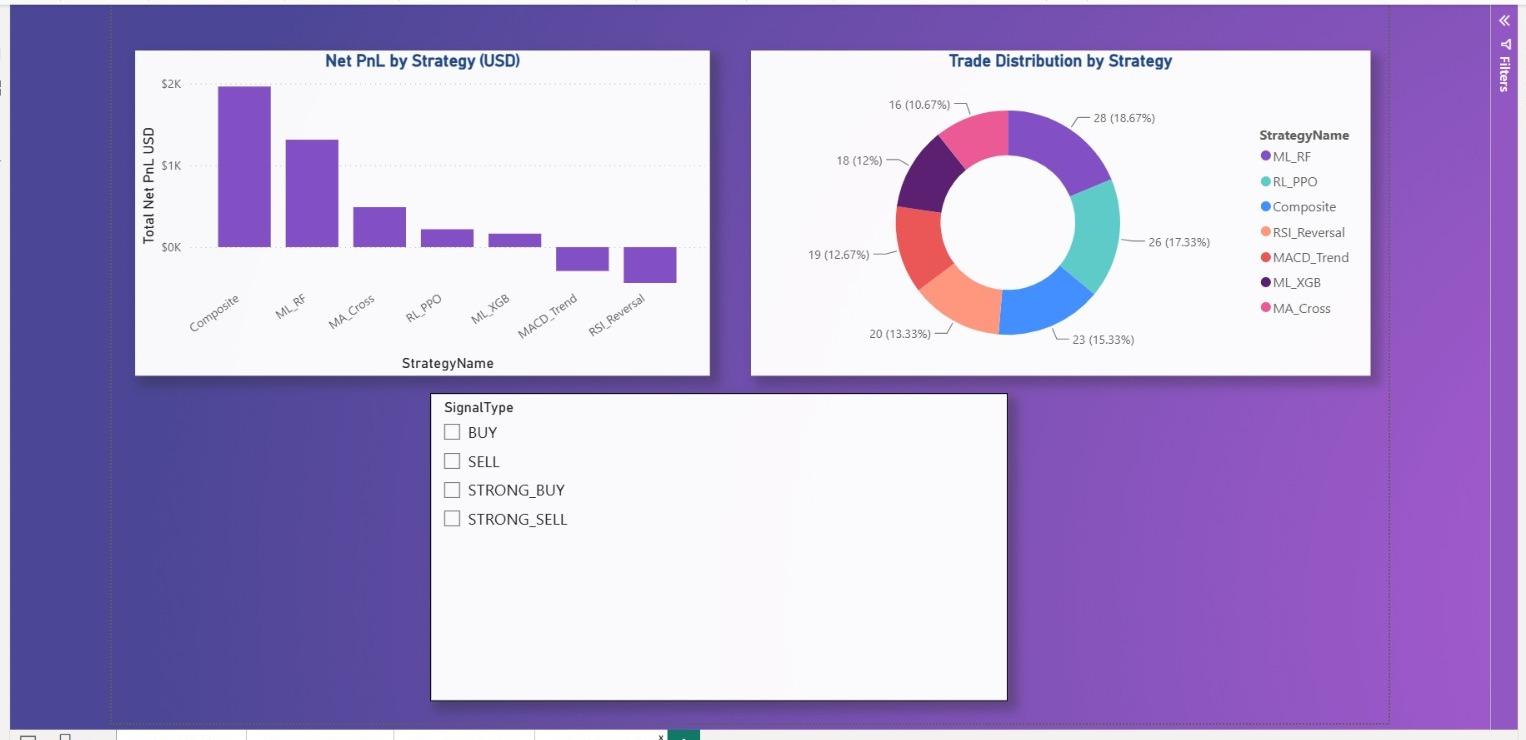

This screenshot's page, from the dashboard's own definition file:
{"tool":"powerbi","page":{"name":"Strategy Performance","canvas":[1280,720],"ordinal":3},"visuals":[{"type":"clusteredColumnChart","title":"Net PnL by Strategy (USD)","fields":{"Category":["trade_log.StrategyName"],"Y":["trade_log.Total Net PnL USD"]},"box":[23.4,45.9,576,326.1],"z":0},{"type":"donutChart","title":"Trade Distribution by Strategy","fields":{"Category":["trade_log.StrategyName"],"Y":["CountNonNull(trade_log.TradeID)"]},"box":[640.5,45.9,621,326.1],"z":1000},{"type":"slicer","fields":{"Values":["trade_log.SignalType"]},"box":[319.3,389.6,579,308.5],"z":2000}]}

Visuals, with their boxes on the page's 1280x720 design canvas (x1, y1, x2, y2). These are canvas units, not pixel positions in the 1526x740 screenshot, which may show the page scaled, cropped or inside an application window:
"Net PnL by Strategy (USD)" clusteredColumnChart: crop(23, 46, 599, 372)
"Trade Distribution by Strategy" donutChart: crop(640, 46, 1262, 372)
slicer - trade_log.SignalType: crop(319, 390, 898, 698)
